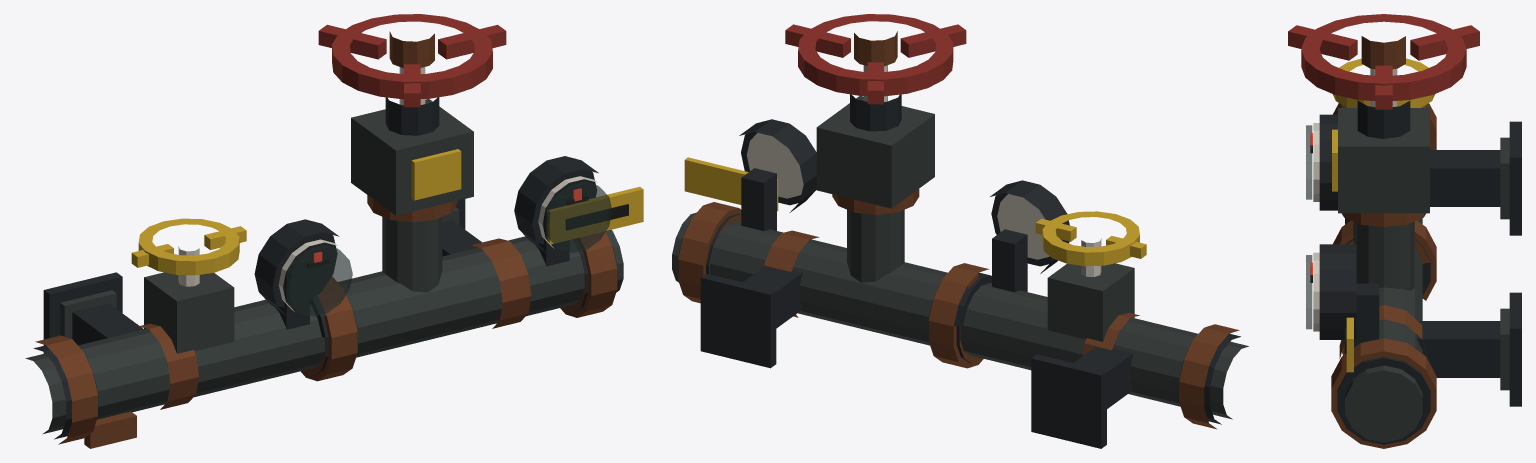
File: pipe_valves.glb
The picture shows the model from 3 angles, left to right: view 1: azimuth 30°, elevation 25°; view 2: azimuth 150°, elevation 25°; view 3: azimuth 270°, elevation 25°; orthographic projection. The views are drawn at different scales.
Visible parts, largest first — view 1: pipe_valves; view 2: pipe_valves; view 3: pipe_valves.
Boxes of the visible parts, x1=… form: pipe_valves: x1=25, y1=14, x2=643, y2=448; pipe_valves: x1=672, y1=14, x2=1248, y2=448; pipe_valves: x1=1288, y1=14, x2=1521, y2=448.
Bounding box in the file's own units: 1.14 × 0.59 × 0.3814.
